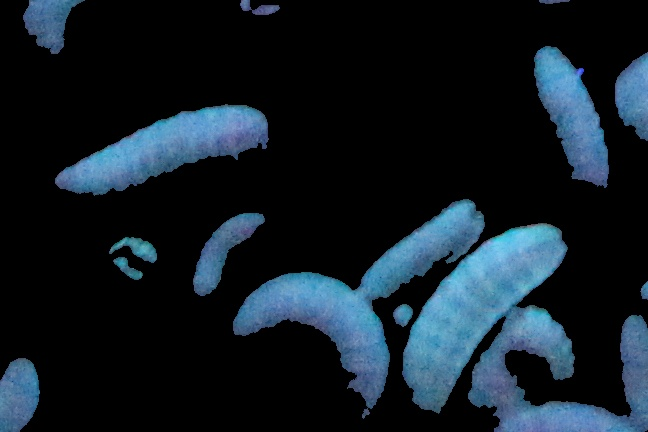larvae: (405, 221, 565, 424), (229, 274, 393, 426), (39, 104, 272, 204), (358, 197, 487, 303), (466, 306, 583, 415), (531, 39, 605, 199), (187, 208, 271, 294), (1, 344, 67, 432)
